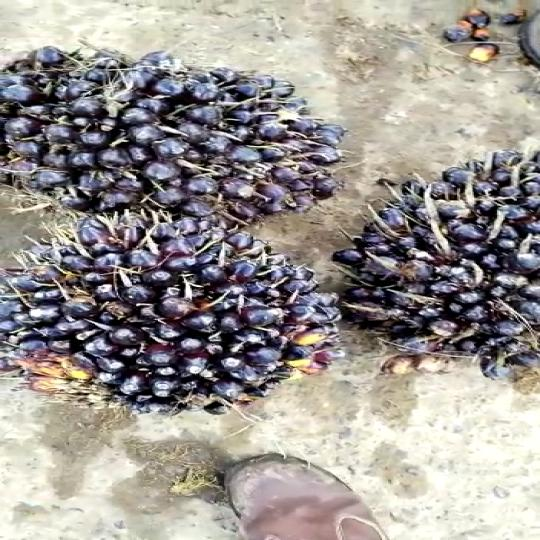mentah: (0, 208, 339, 446), (0, 37, 362, 246), (337, 147, 540, 391)
